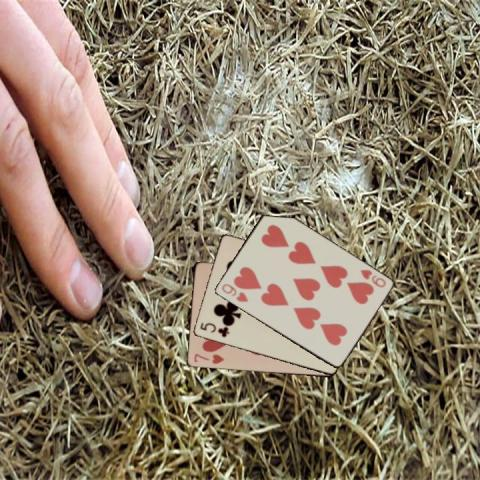5c: (196, 319, 230, 339)
7h: (191, 351, 225, 365)
9h: (218, 281, 249, 303), (357, 267, 387, 289)
